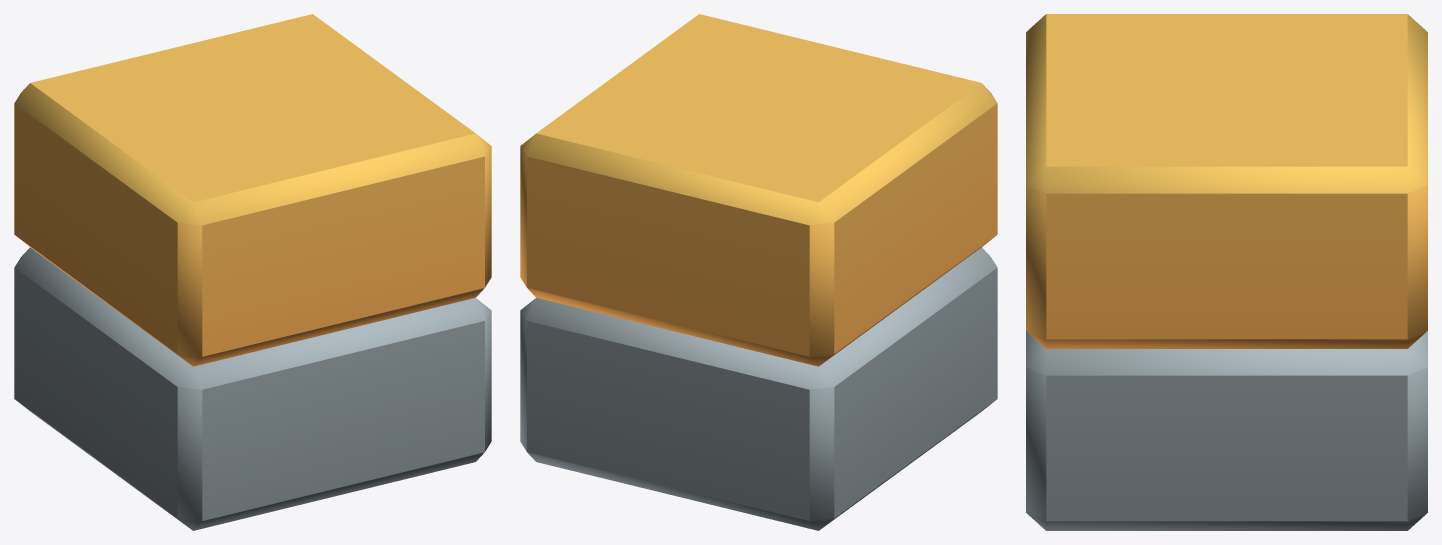
File: platform_1x1x1_yellow.glb
The picture shows the model from 3 angles, left to right: view 1: azimuth 30°, elevation 25°; view 2: azimuth 150°, elevation 25°; view 3: azimuth 270°, elevation 25°; orthographic projection. The views are drawn at different scales.
Parts seen in each view (by area): view 1: platform_1x1x1_yellow; view 2: platform_1x1x1_yellow; view 3: platform_1x1x1_yellow.
Boxes of the visible parts, left/top/right/bottom form: platform_1x1x1_yellow: left=14, top=14, right=491, bottom=530; platform_1x1x1_yellow: left=520, top=14, right=997, bottom=530; platform_1x1x1_yellow: left=1026, top=14, right=1427, bottom=530.
Bounding box in the file's own units: 1 × 1 × 1.
1 material, 1 textured.
